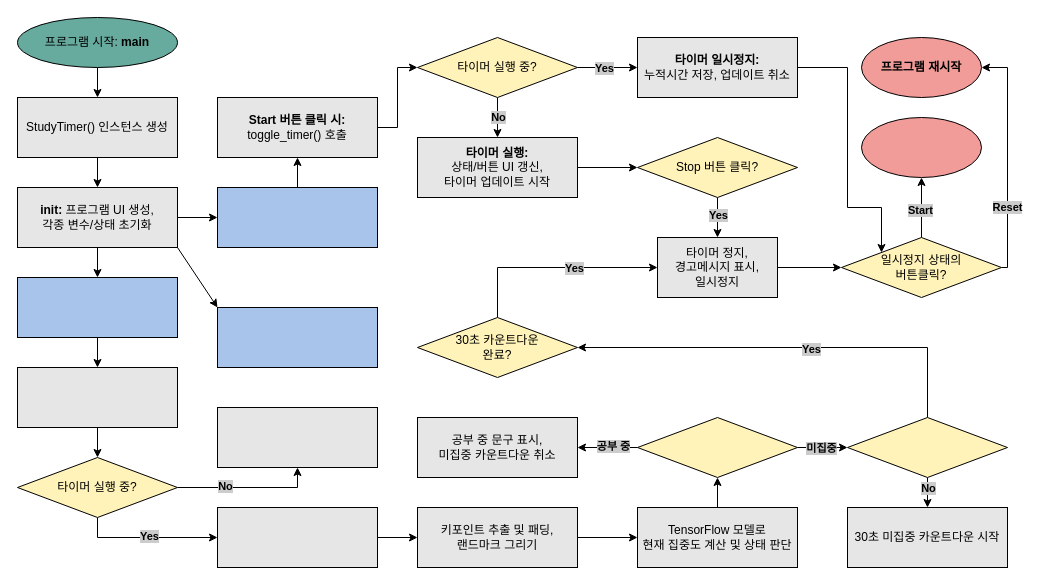
This 1039x585 diagram has some shape labels left out. Each missing label, with the centre of its shape:
"create_widgets() 함수: 프로그램 창과 각종 GUI 오브젝트 생성" belongs at (297,217).
"MediaPipe로 자세 데이터 추출" belongs at (297,537).
"OpenCV로 카메라 프레임 읽고 프로그램에 표시" belongs at (97,397).
"update_ai_frame() 함수: 상시 AI 판독" belongs at (97,307).
"update_message() 함수: 동기부여 문구 상시 업데이트" belongs at (297,337).
"모델 분류 결과?" belongs at (717,447).
"사용자 카메라만 표시, AI 판독 X" belongs at (297,437).
"카운트다운 중?" belongs at (927,447).
"타이머 재시작" belongs at (921,147).
